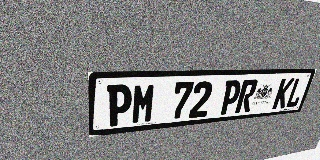2: (189, 81, 214, 118)
7: (169, 82, 194, 120)
K: (272, 78, 295, 109)
L: (285, 78, 307, 108)
M: (131, 83, 157, 124)
P: (107, 84, 133, 127), (218, 80, 243, 115)
R: (235, 79, 259, 113)
